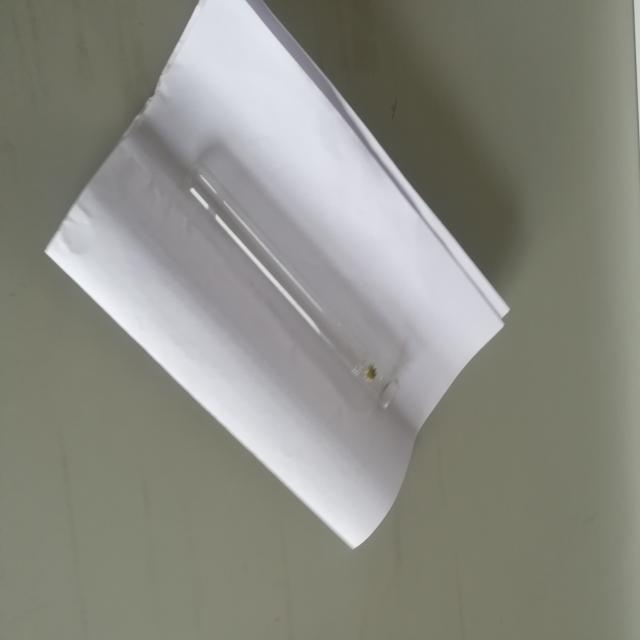Test_Tube: (170, 144, 422, 456)
